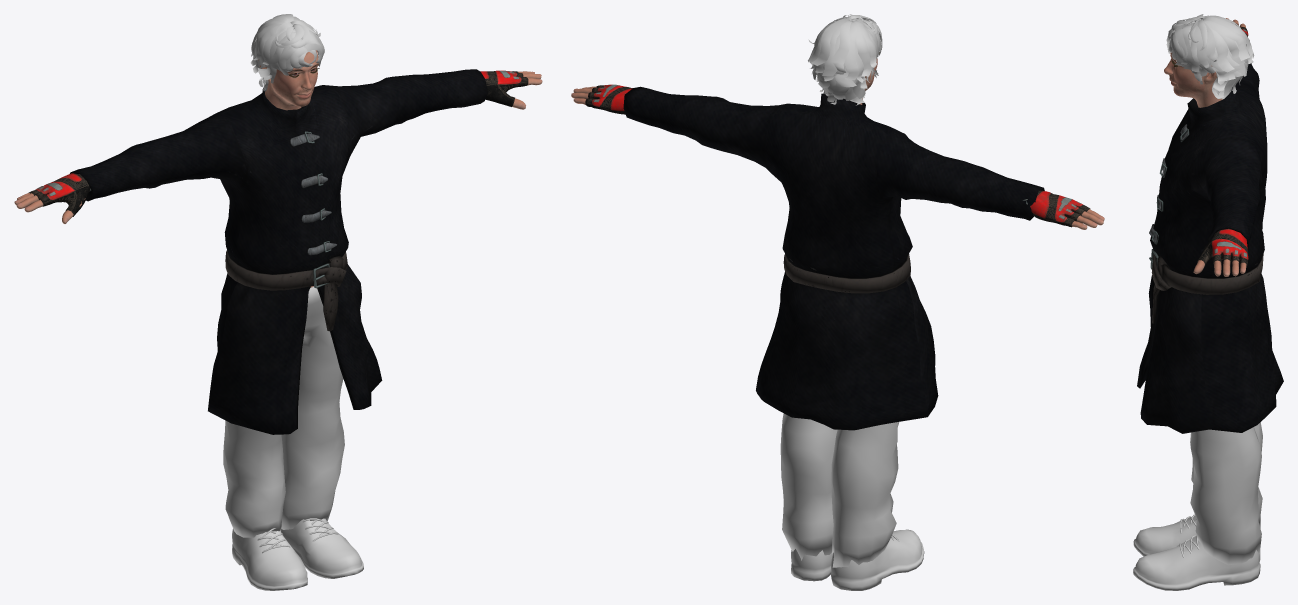
The model's file is Guerrero.obj.
The picture shows the model from 3 angles, left to right: view 1: azimuth 30°, elevation 25°; view 2: azimuth 150°, elevation 25°; view 3: azimuth 270°, elevation 25°; orthographic projection.
Parts seen in each view (by area): view 1: Tops, Bottoms, Shoes, Hair, Body, Gloves; view 2: Tops, Bottoms, Hair, Shoes, Gloves, Body; view 3: Tops, Bottoms, Shoes, Hair, Body, Gloves.
Boxes of the visible parts, x1,y1,x2,y2 form: Tops: [70, 69, 487, 434]; Bottoms: [223, 286, 344, 537]; Shoes: [232, 518, 363, 590]; Hair: [250, 14, 324, 92]; Body: [14, 50, 542, 287]; Gloves: [28, 70, 528, 216]; Tops: [623, 86, 1044, 430]; Bottoms: [780, 413, 899, 567]; Hair: [808, 14, 882, 105]; Shoes: [791, 529, 924, 590]; Gloves: [585, 84, 1090, 227]; Body: [571, 58, 1104, 229]; Tops: [1137, 63, 1283, 433]; Bottoms: [1190, 422, 1262, 565]; Shoes: [1133, 514, 1260, 590]; Hair: [1166, 14, 1254, 99]; Body: [1164, 18, 1246, 276]; Gloves: [1197, 23, 1248, 266].
Bounding box in the file's own units: 177 × 175 × 43.62.
